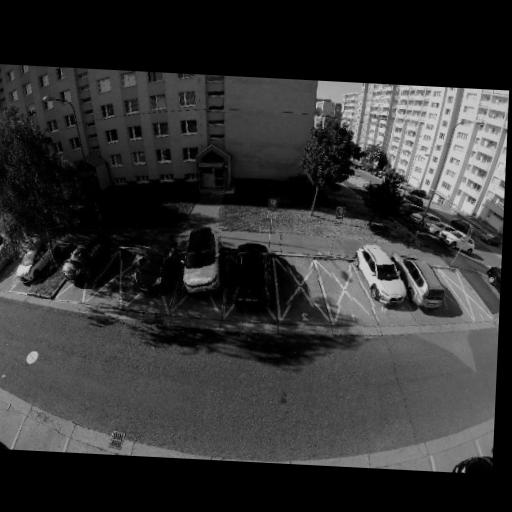busy: (170, 225, 228, 297), (227, 238, 280, 310), (356, 242, 411, 309), (128, 235, 176, 296), (59, 232, 112, 284), (401, 258, 450, 311), (12, 242, 49, 288), (439, 449, 493, 474), (0, 237, 9, 286)
free: (281, 265, 319, 309), (327, 269, 356, 307), (104, 260, 131, 292), (456, 280, 485, 306)
